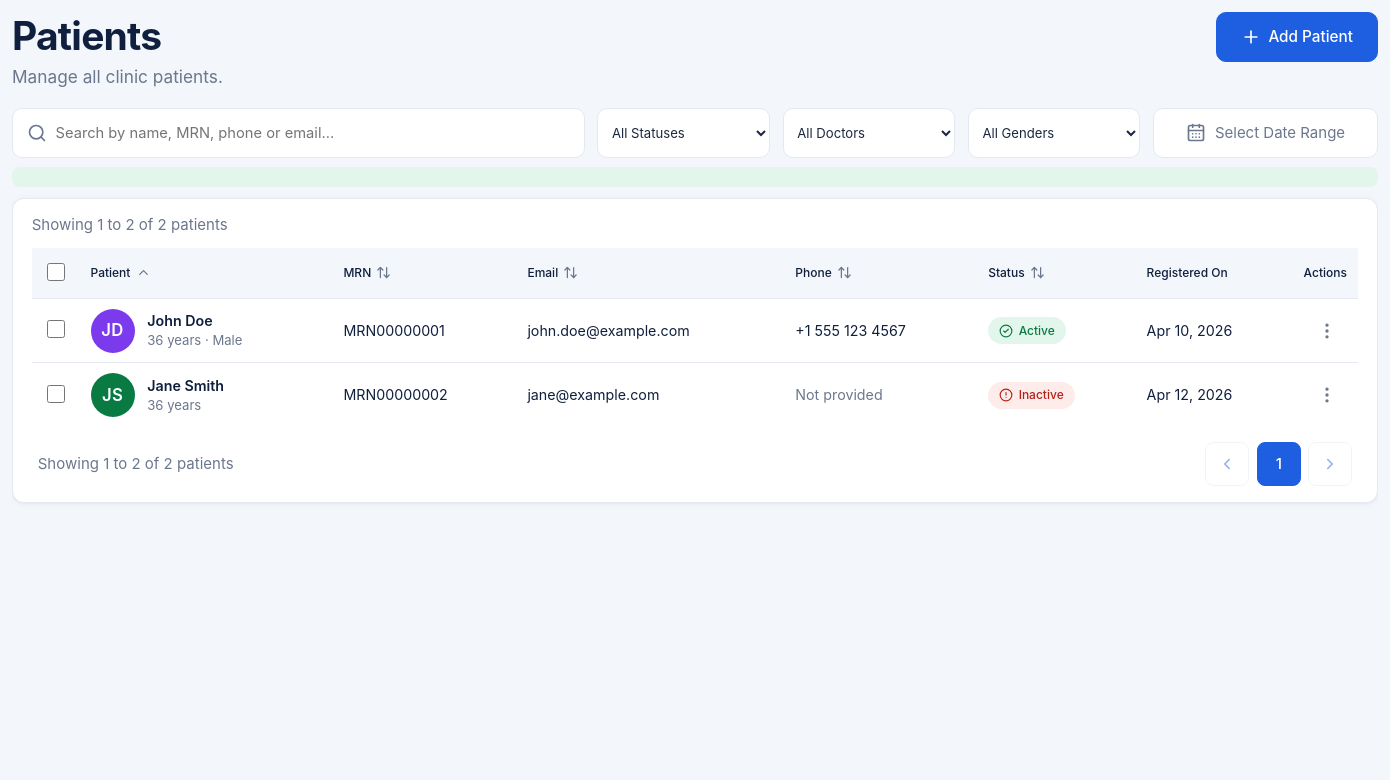
Scenario: Patients › selects rows on this page, with a select-all that knows a partial selection
Click the checkbox named "Select John Doe": (56, 329) [47,320,65,338]
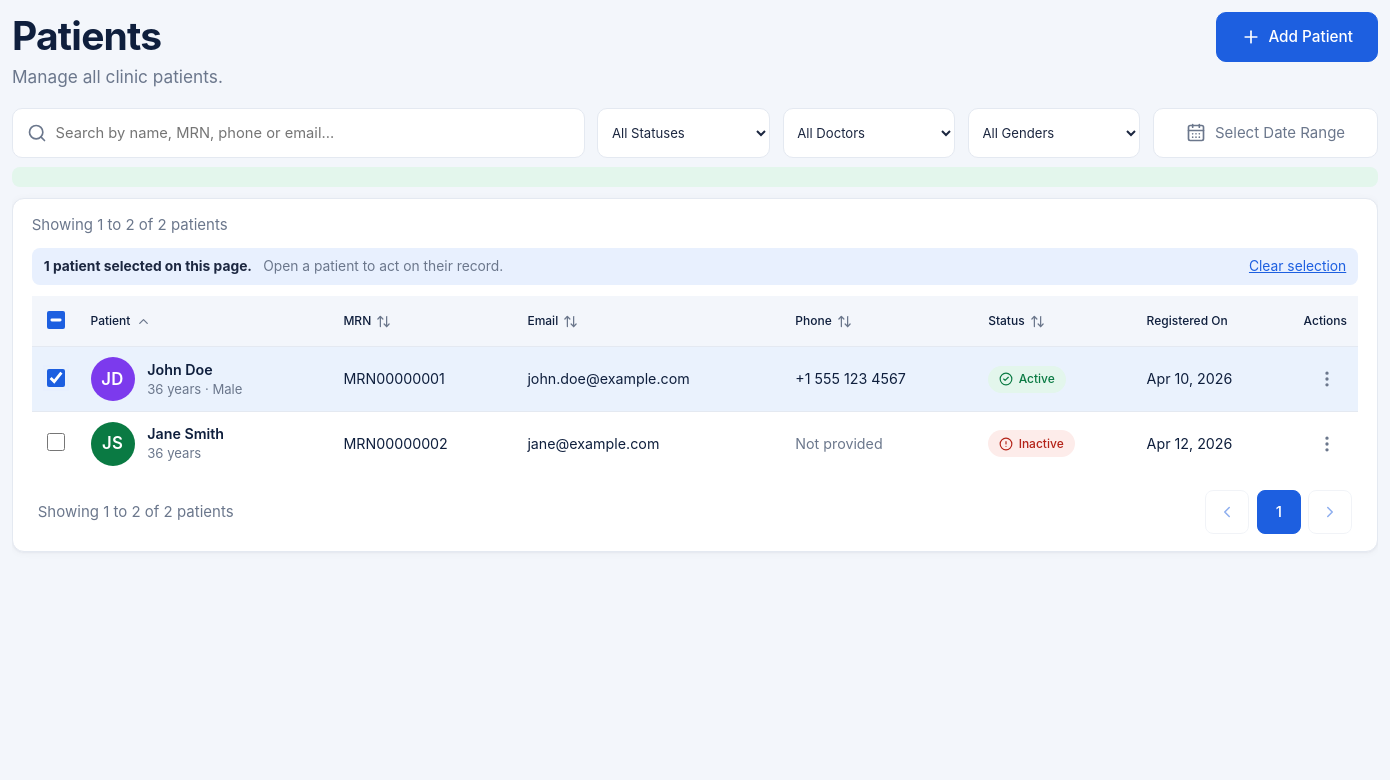
Now the text "1 patient selected on this page." is shown, box [44,256,252,277]
Now the text "Open a patient to act on their record." is shown, box [263,256,503,277]
Click the checkbox named "Select all patients on this page": (56, 320) [47,311,65,329]
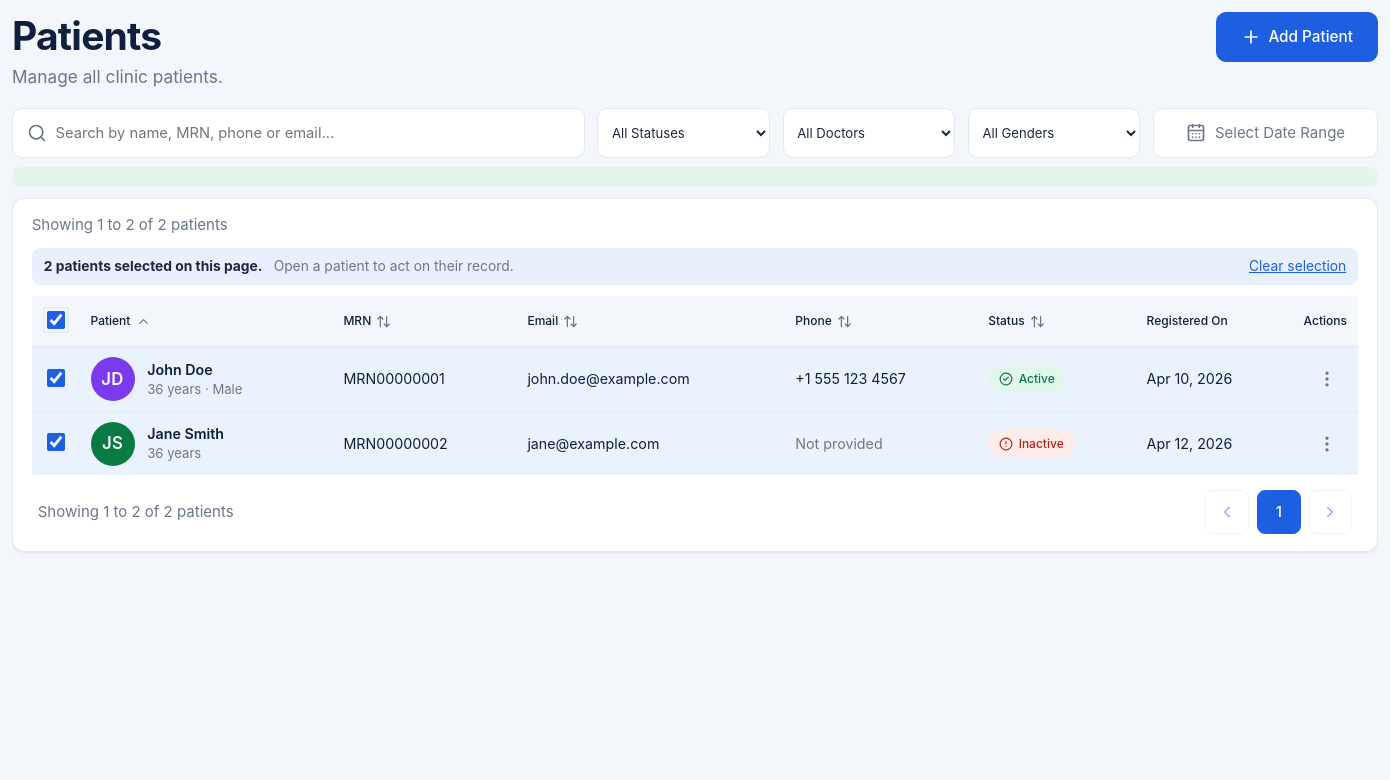
Now the checkbox named "Select all patients on this page" is checked
Now the text "2 patients selected on this page." is shown, box [44,256,262,277]
Click the checkbox named "Select all patients on this page": (56, 320) [47,311,65,329]
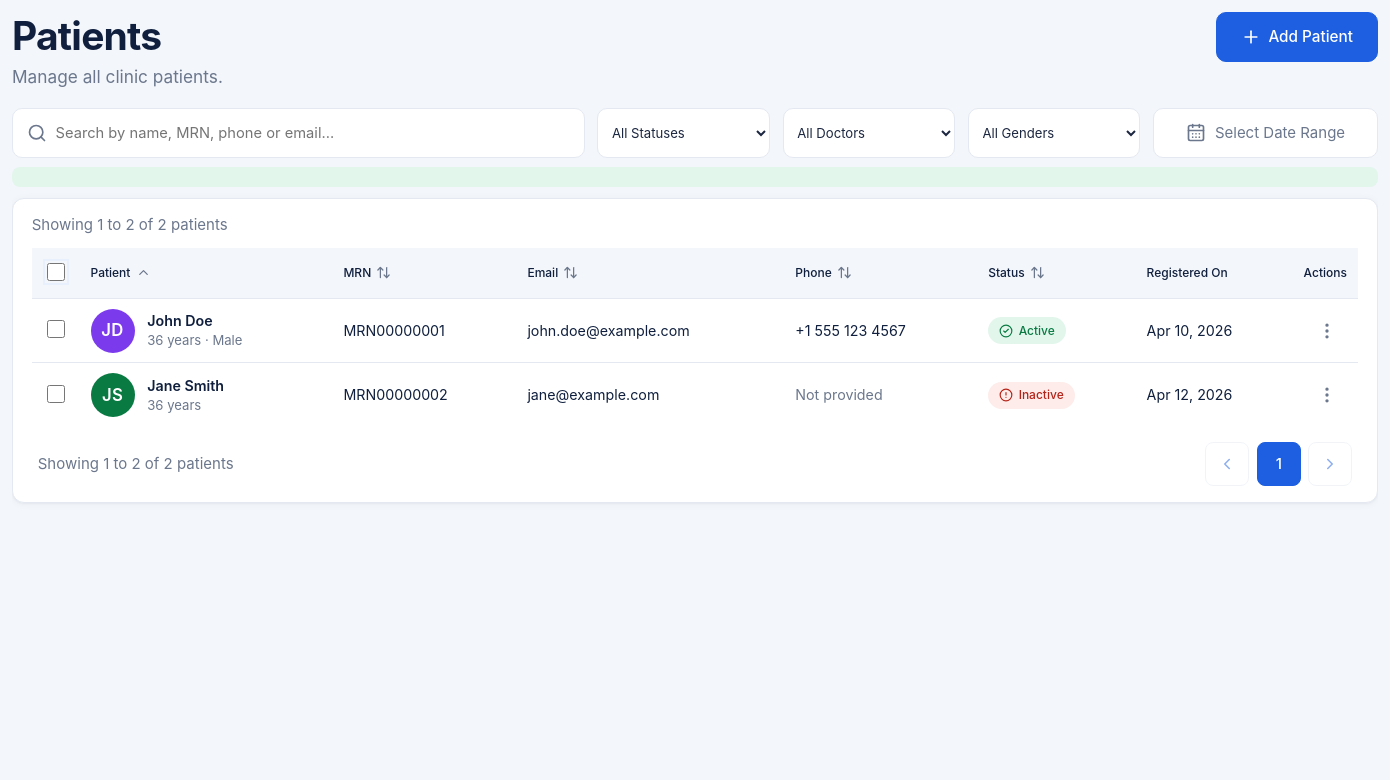
Now the text "selected on this page" is gone
